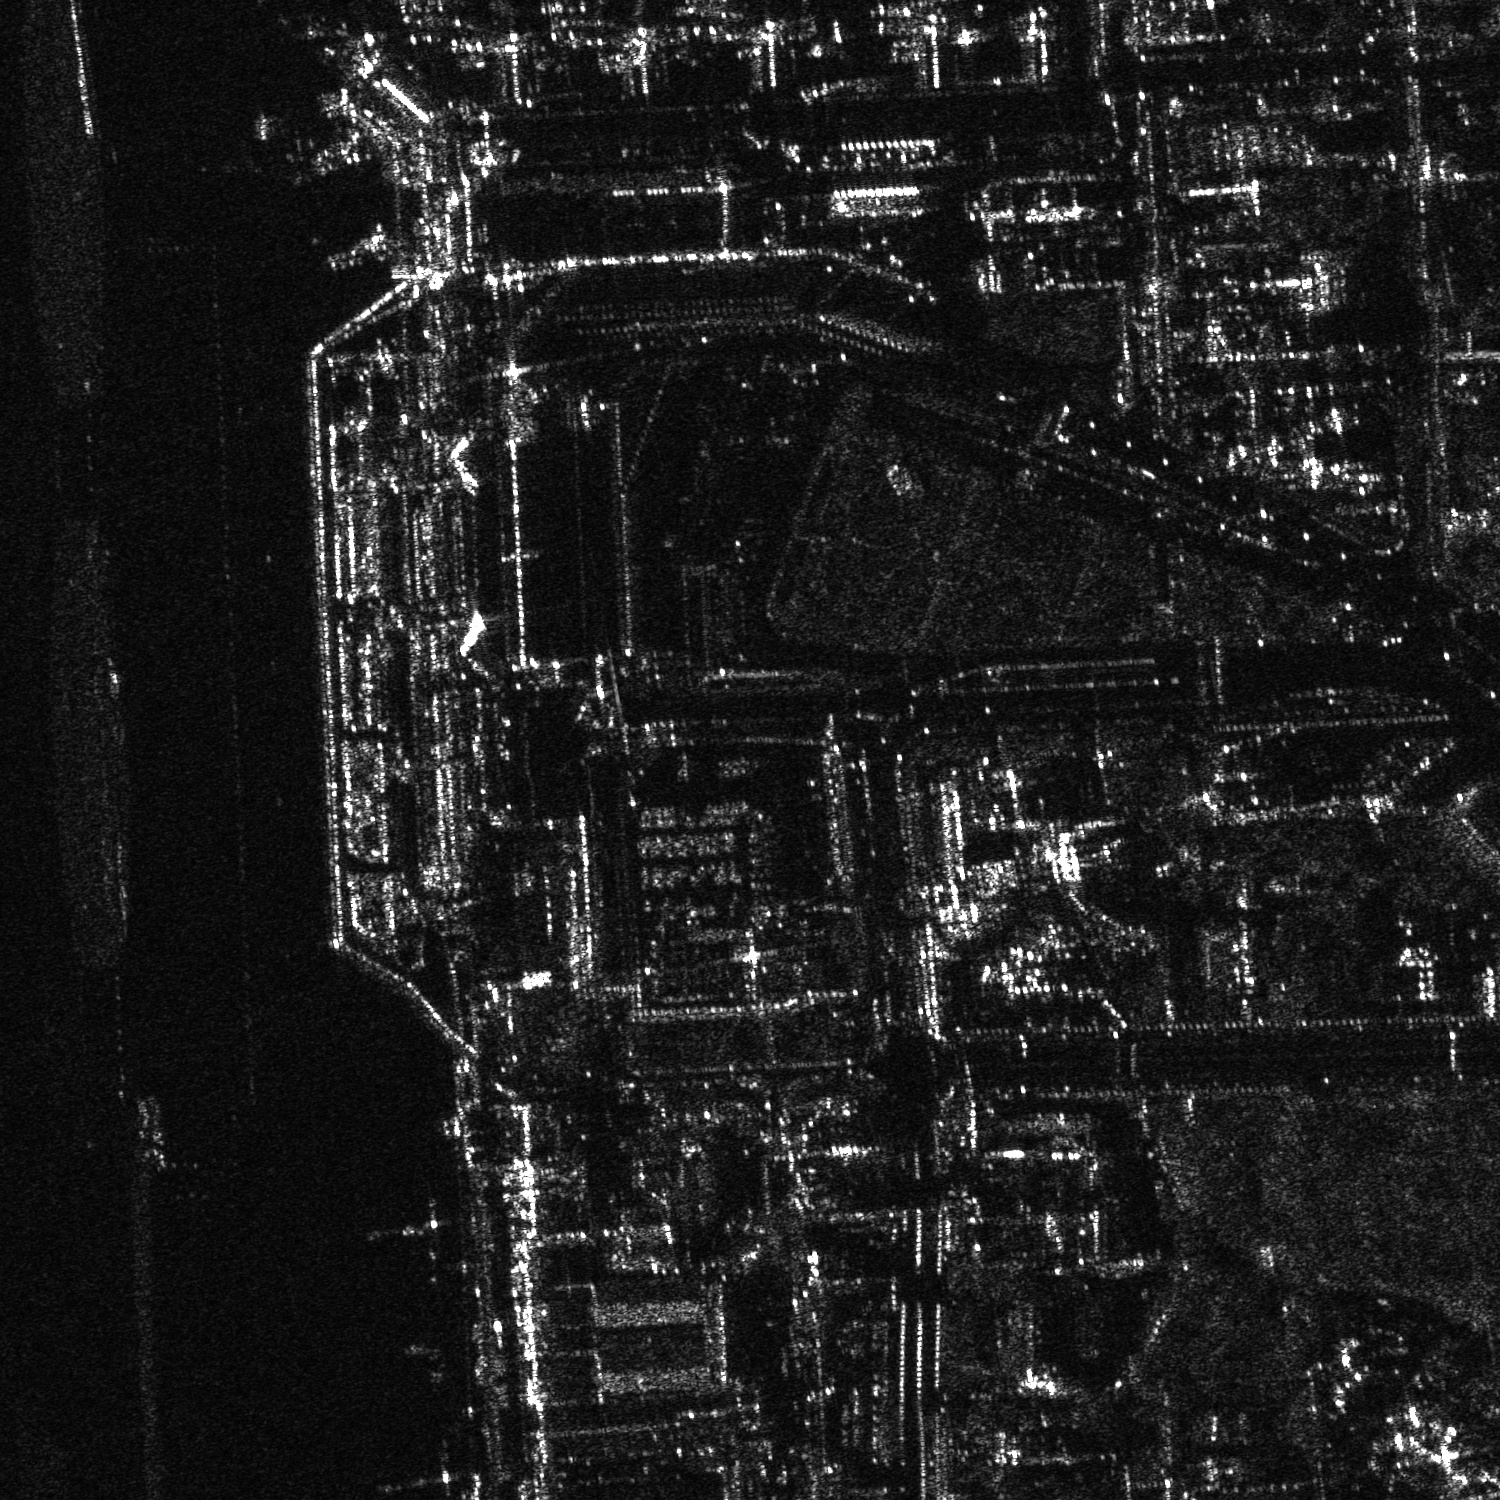A320/321: (379, 1441, 468, 1499)
other: (361, 1184, 463, 1282)
